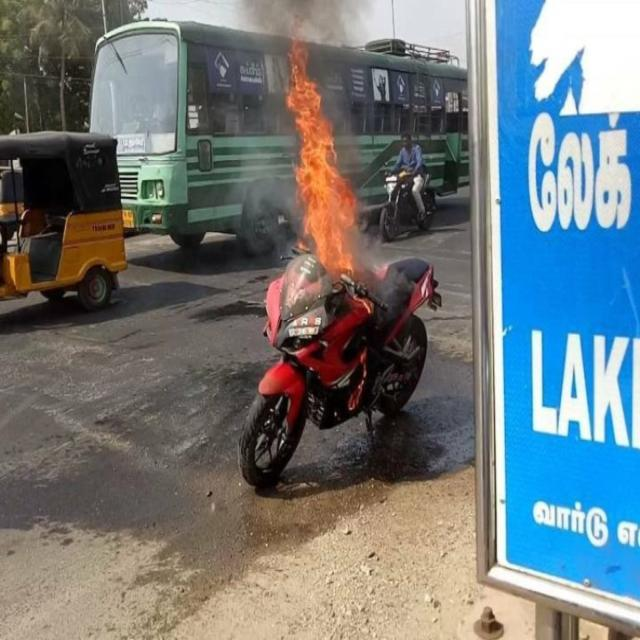Fire: (286, 49, 356, 274)
Smoke: (228, 0, 352, 245)
